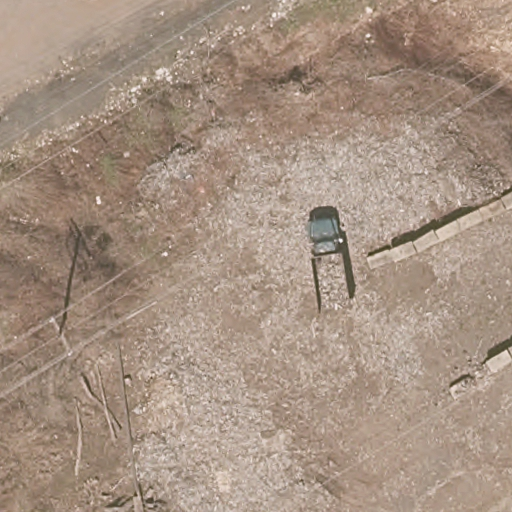DT: (46, 316, 75, 359)
